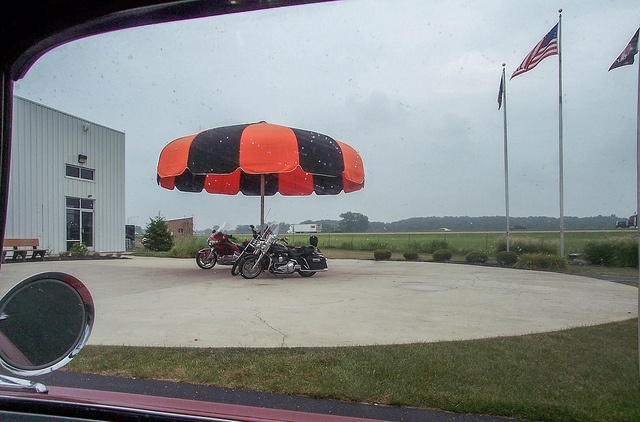non-vehicle: (240, 236, 329, 278), (195, 228, 252, 268)
